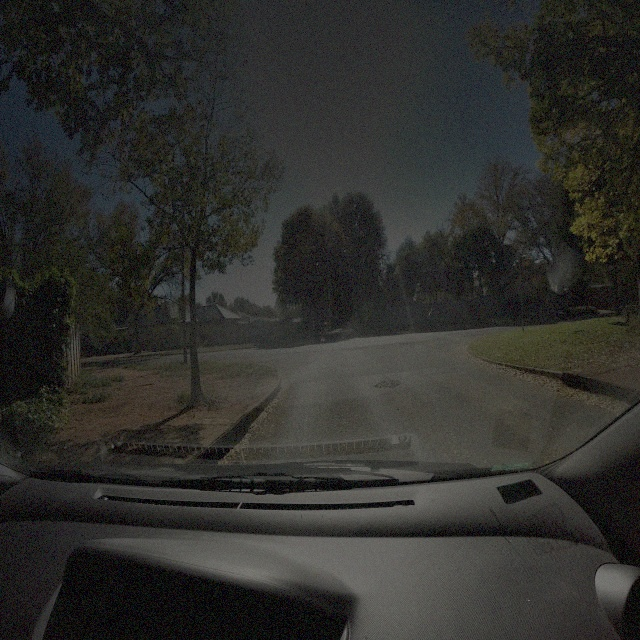pothole: (375, 380, 402, 389)
